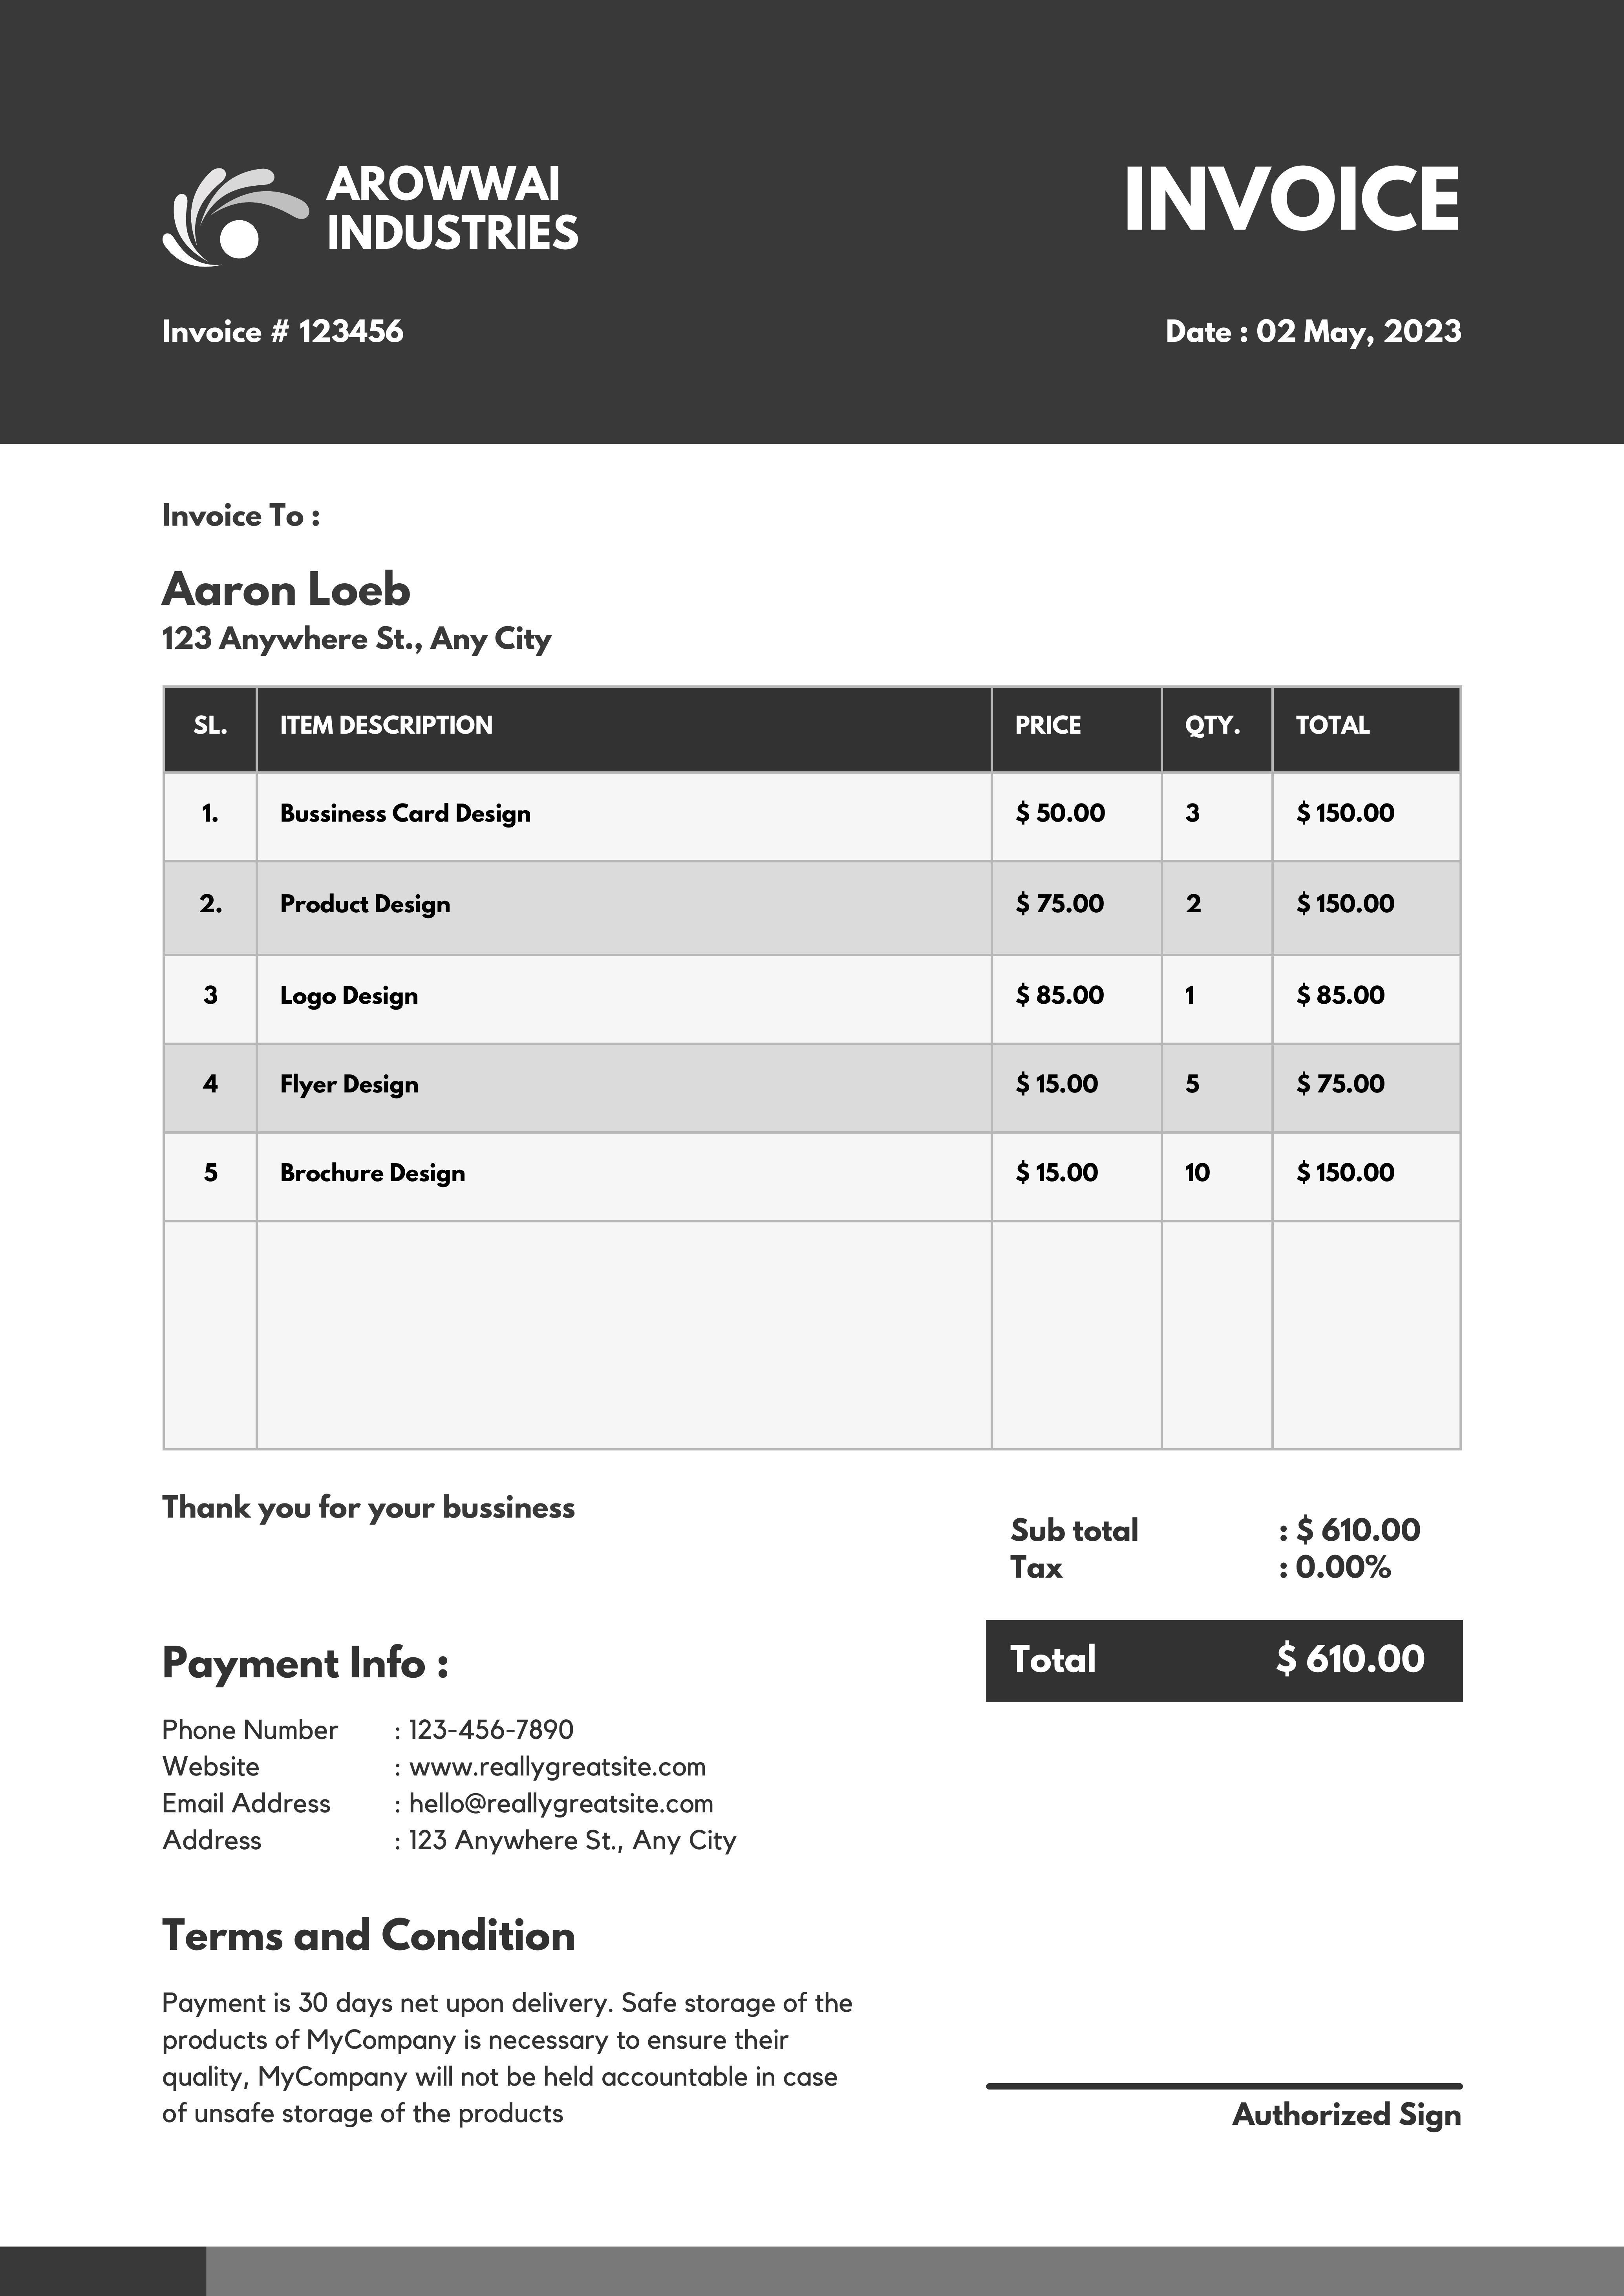ROI: (163, 680, 1461, 1447), (152, 1609, 812, 1865), (984, 1497, 1462, 1697), (149, 493, 567, 665), (129, 307, 1506, 355), (316, 152, 602, 264)
